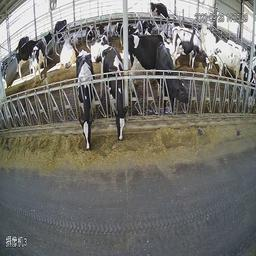cow: (96, 46, 127, 142), (155, 43, 190, 107), (76, 51, 93, 152), (208, 36, 239, 81), (173, 26, 207, 67), (32, 29, 53, 84), (14, 35, 32, 80), (59, 30, 78, 68), (151, 2, 174, 23), (55, 15, 68, 47), (84, 20, 98, 41), (111, 19, 123, 38)
